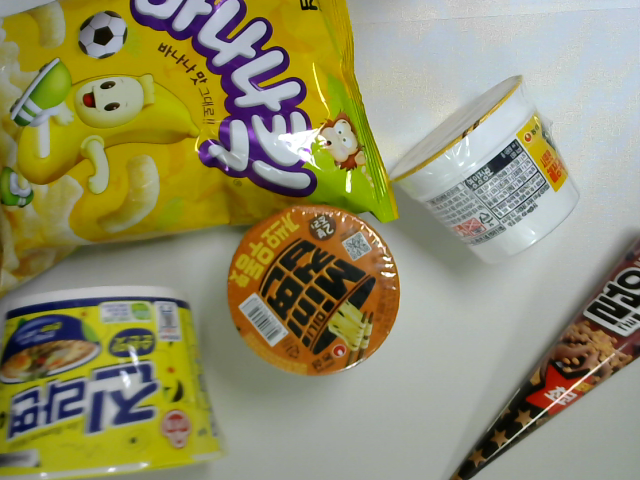Banana_Kick: (1, 1, 412, 306)
Hejangmini: (388, 68, 596, 270)
Jinlamyeon_Mild_Taste_Large_Cup: (1, 278, 236, 480)
Udongmini: (223, 205, 402, 375)
World_Cone_Choco: (444, 228, 640, 480)
